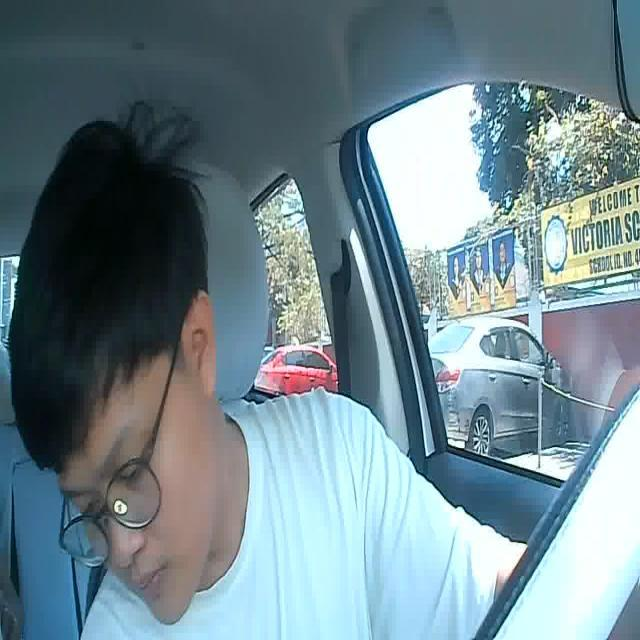Eye-Close: (71, 492, 108, 523), (113, 457, 149, 487)
Inattentive: (7, 120, 224, 628)
Normal: (134, 564, 172, 596)
